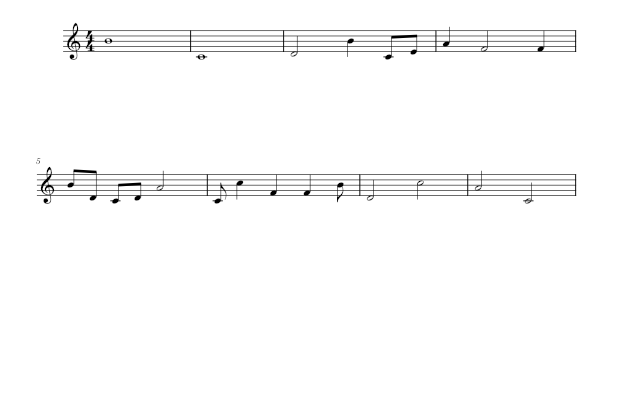Treble Clef: (62, 18, 82, 64), (37, 165, 57, 209)
